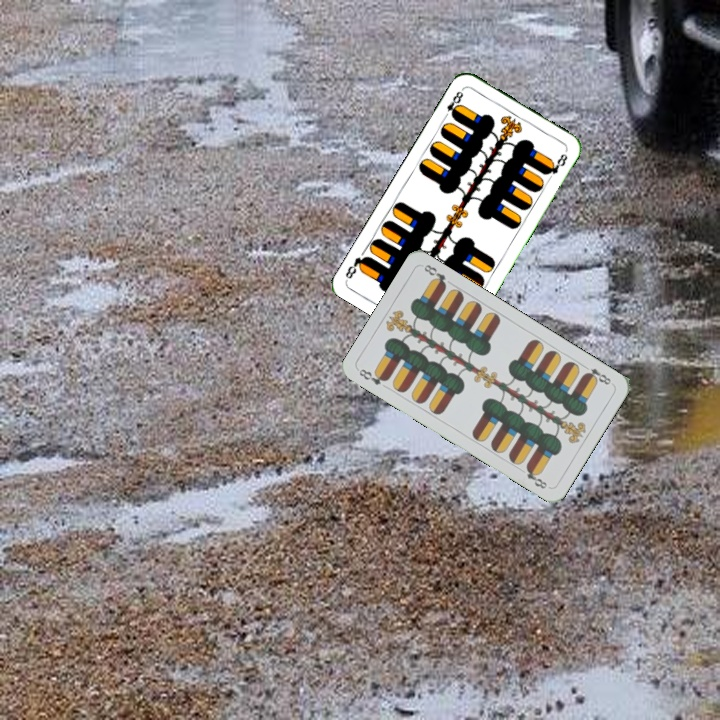E8: (579, 361, 614, 388), (440, 85, 466, 121), (355, 365, 390, 388)
